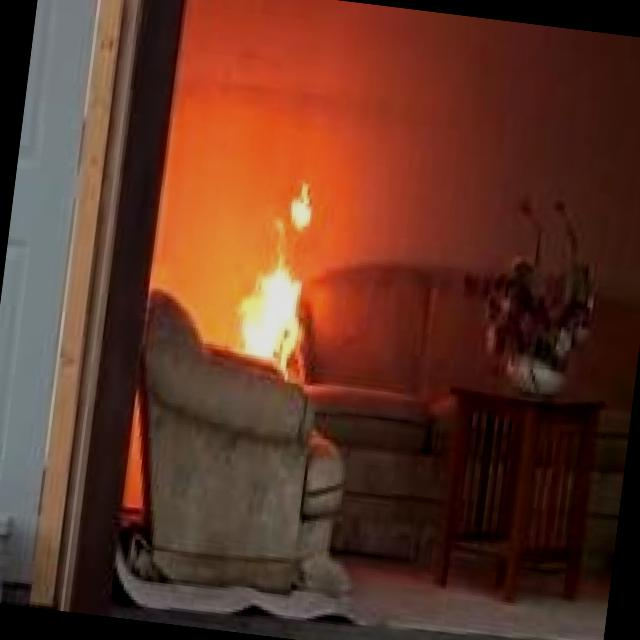fire: (201, 169, 330, 374)
